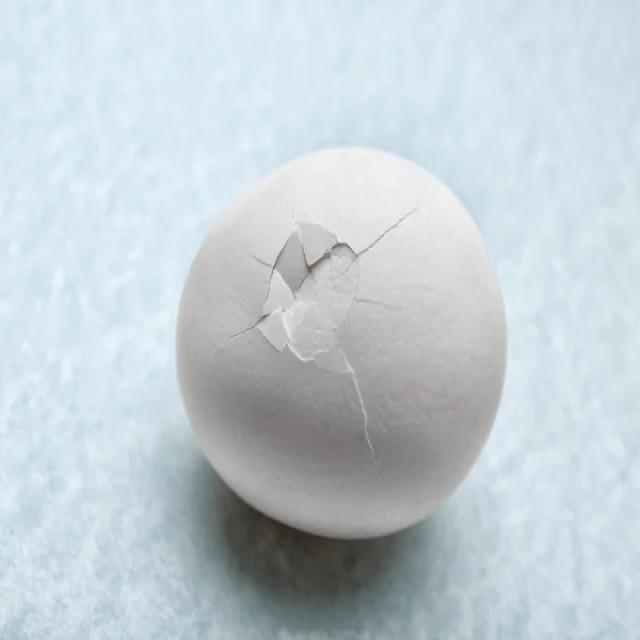Crack: (220, 188, 452, 419)
Egg: (170, 133, 511, 556)
